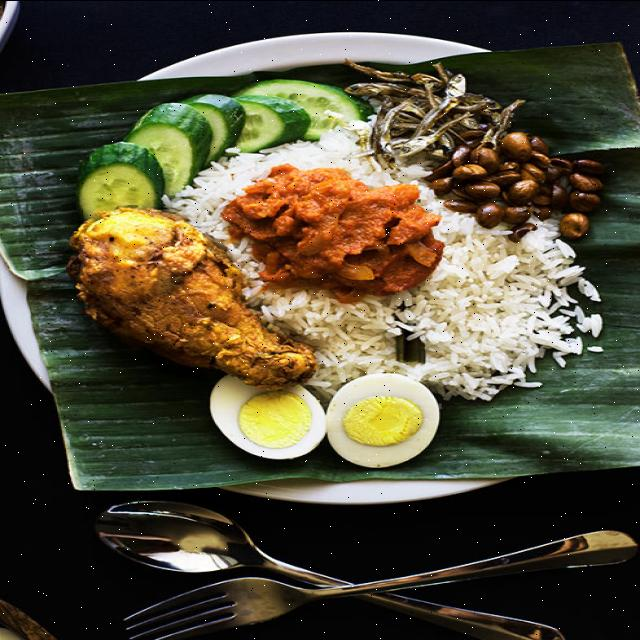Chicken: (67, 207, 316, 389)
Egg: (211, 374, 439, 466)
Green veg: (78, 79, 371, 218)
Rice: (166, 129, 601, 400)
